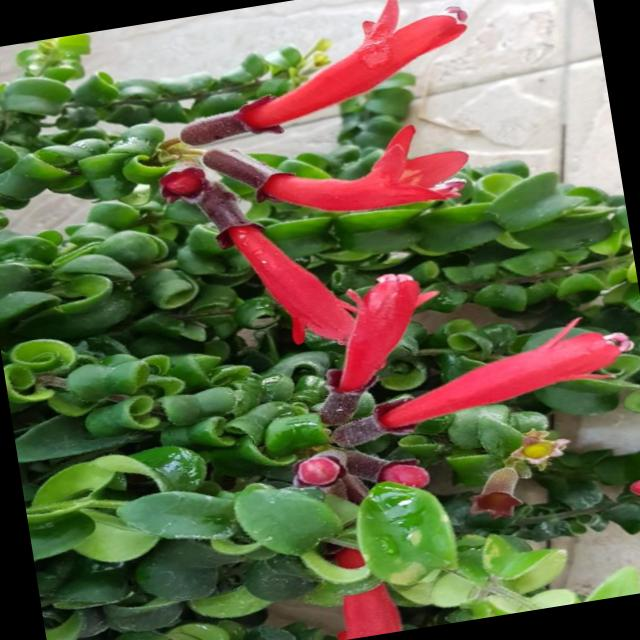Lipstick-Plant: (91, 0, 544, 374), (239, 249, 640, 551)
